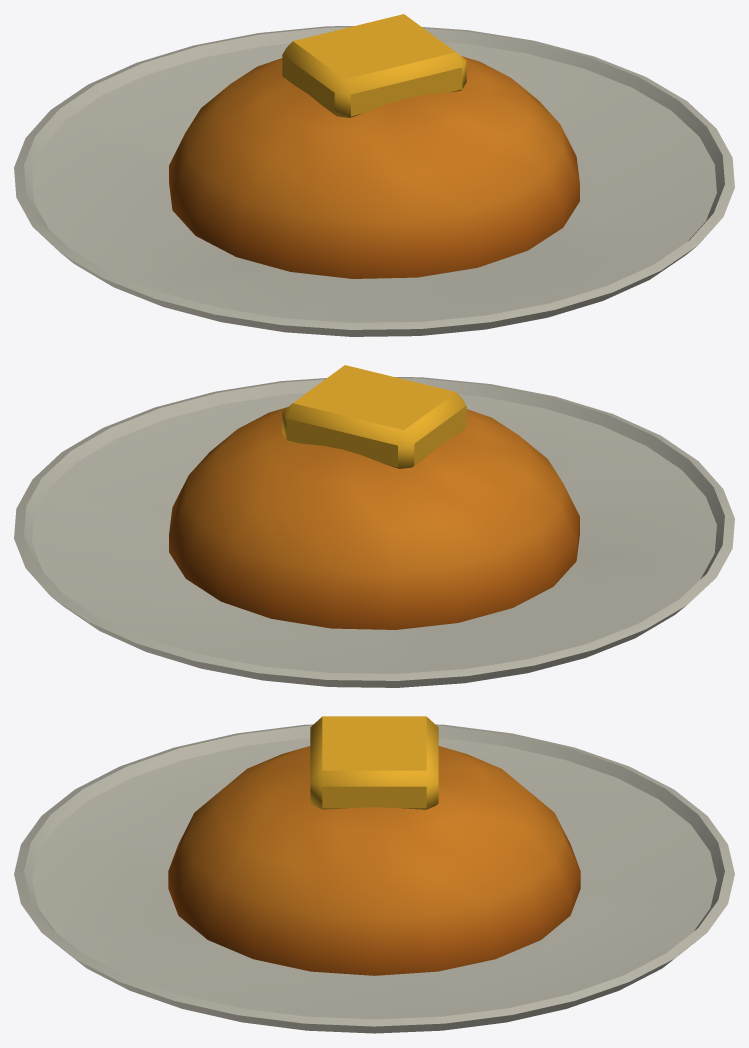
File: food-pineapple-bun-s0.glb
The picture shows the model from 3 angles, top to bottom: view 1: azimuth 30°, elevation 25°; view 2: azimuth 150°, elevation 25°; view 3: azimuth 270°, elevation 25°; orthographic projection.
Parts seen in each view (by area): view 1: plate__ceramic, bun__food, butter__food; view 2: plate__ceramic, bun__food, butter__food; view 3: plate__ceramic, bun__food, butter__food.
Boxes of the visible parts, <box> form: plate__ceramic: <box>14,26,734,336</box>; bun__food: <box>169,56,579,278</box>; butter__food: <box>282,14,466,117</box>; plate__ceramic: <box>14,377,734,687</box>; bun__food: <box>169,407,579,629</box>; butter__food: <box>282,365,466,468</box>; plate__ceramic: <box>14,724,734,1033</box>; bun__food: <box>168,746,580,975</box>; butter__food: <box>310,716,438,809</box>.
Bounding box in the file's own units: 0.18 × 0.048 × 0.18.
